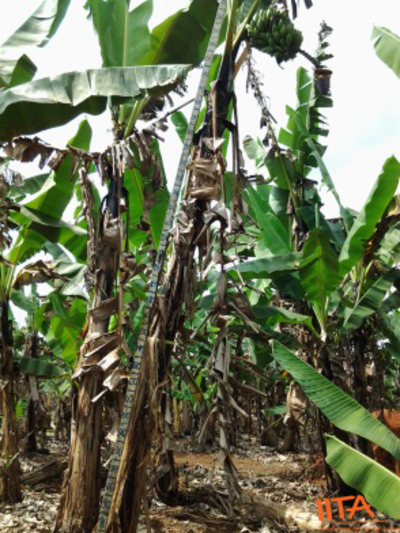bananaHand: (244, 6, 305, 68)
